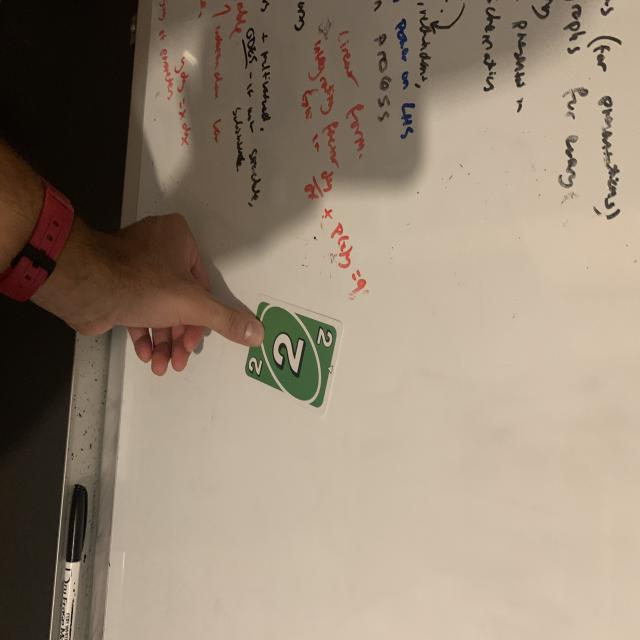lgreen-2: (246, 352, 265, 380)
